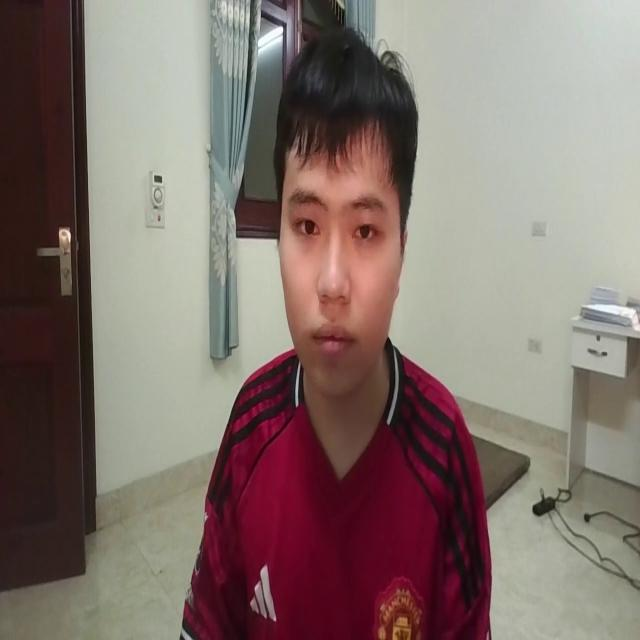student: (174, 24, 494, 640)
